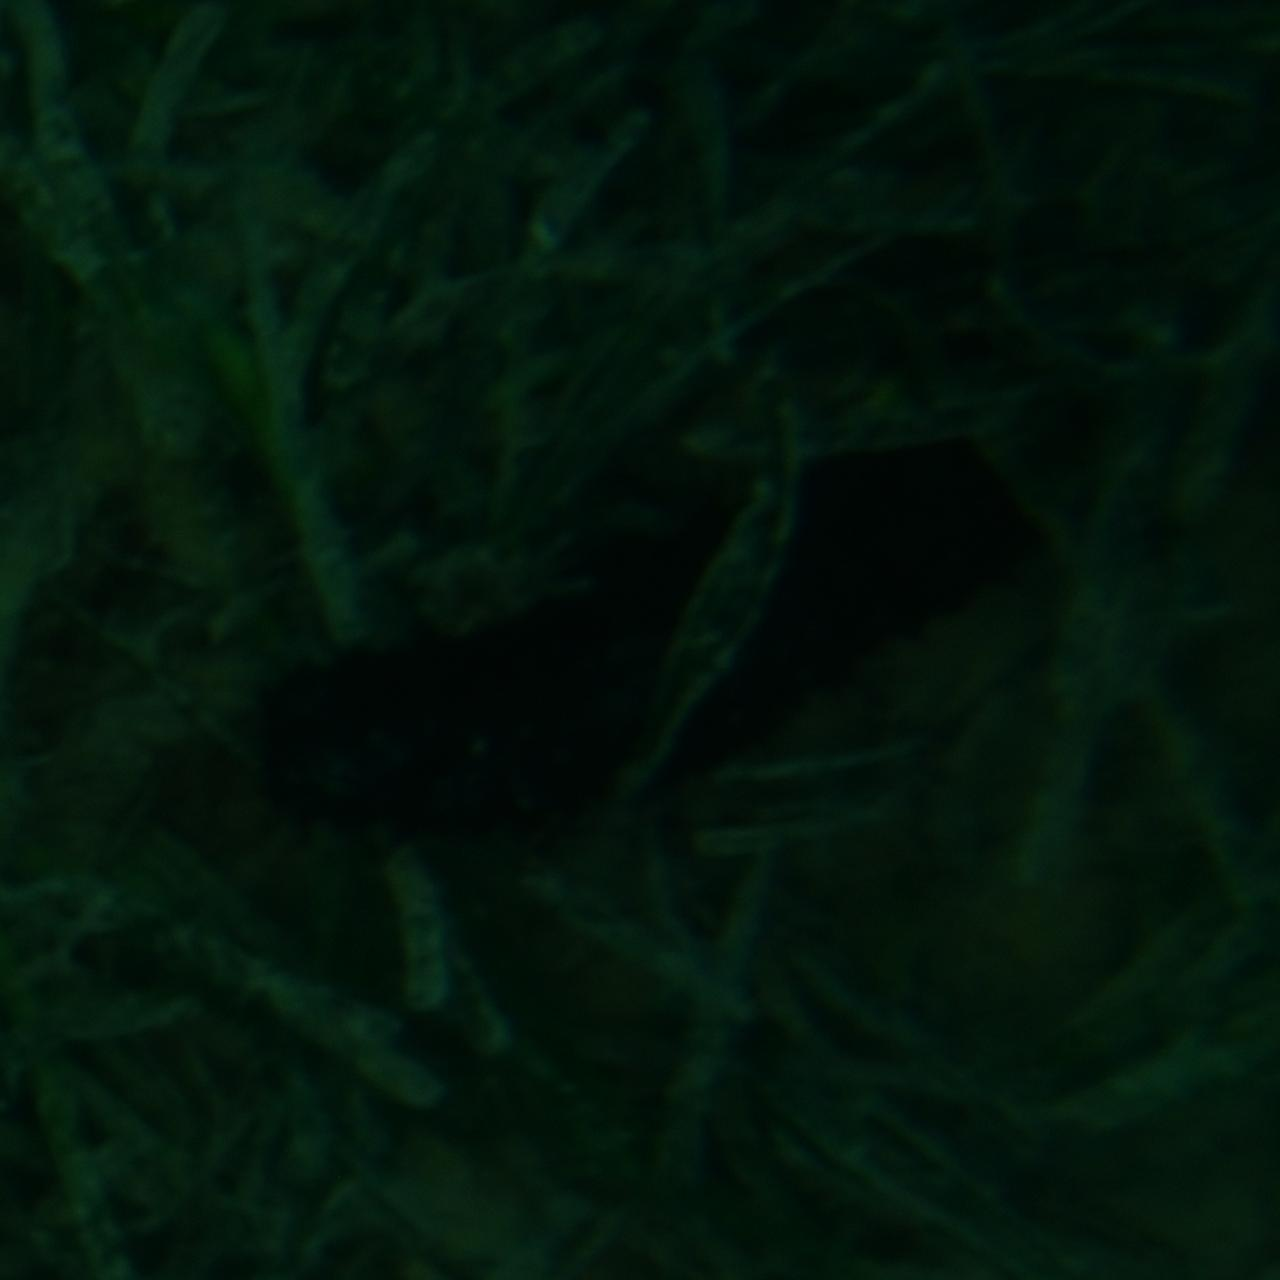Holothuria tubulosa: (246, 408, 1034, 872)
